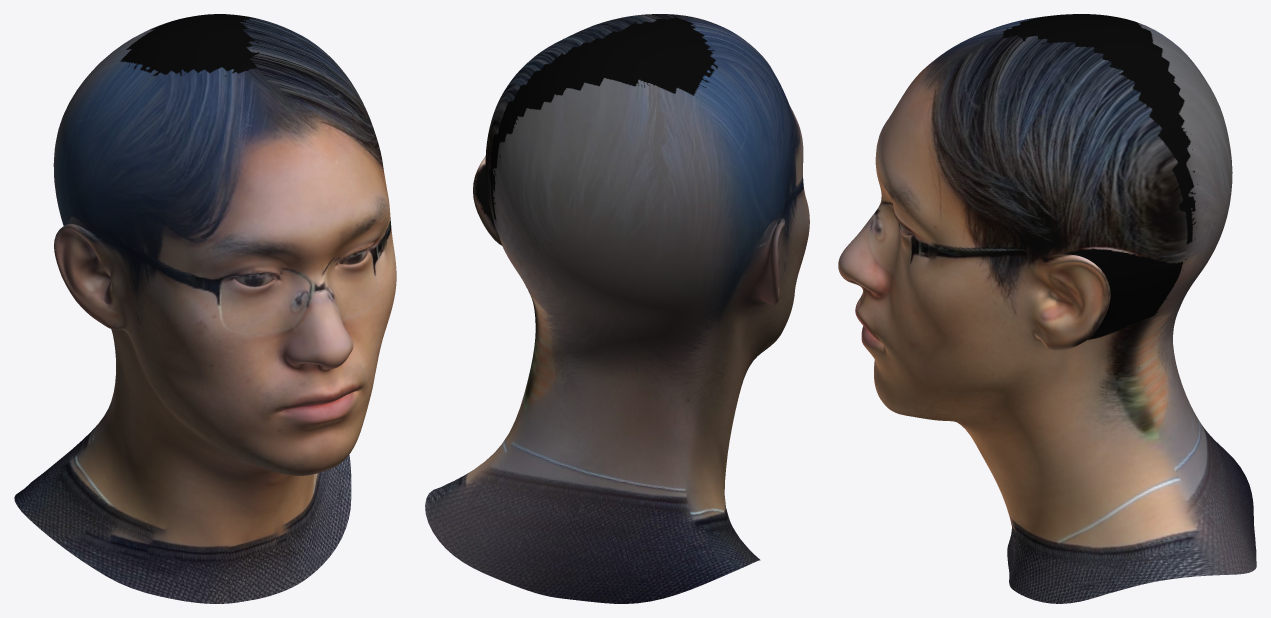
Rendered from 261026_jw3_shapekey.glb.
3 views of the same model, side by side, from view 1: azimuth 30°, elevation 25°; view 2: azimuth 150°, elevation 25°; view 3: azimuth 270°, elevation 25° (orthographic). The views are drawn at different scales.
Visible parts, largest first — view 1: FBHead; view 2: FBHead; view 3: FBHead.
Boxes of the visible parts, <box> form: FBHead: <box>14,14,396,603</box>; FBHead: <box>425,14,809,603</box>; FBHead: <box>838,14,1256,603</box>.
Bounding box in the file's own units: 1.74 × 2.85 × 2.
1 material, 1 textured.
